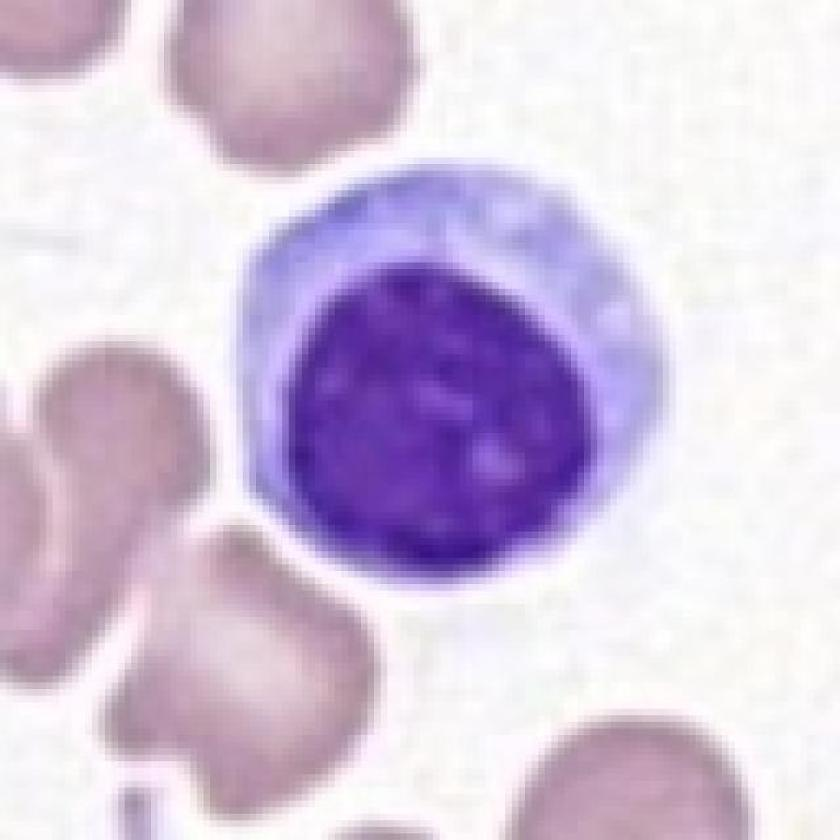lymphocyte: (232, 156, 680, 590)
